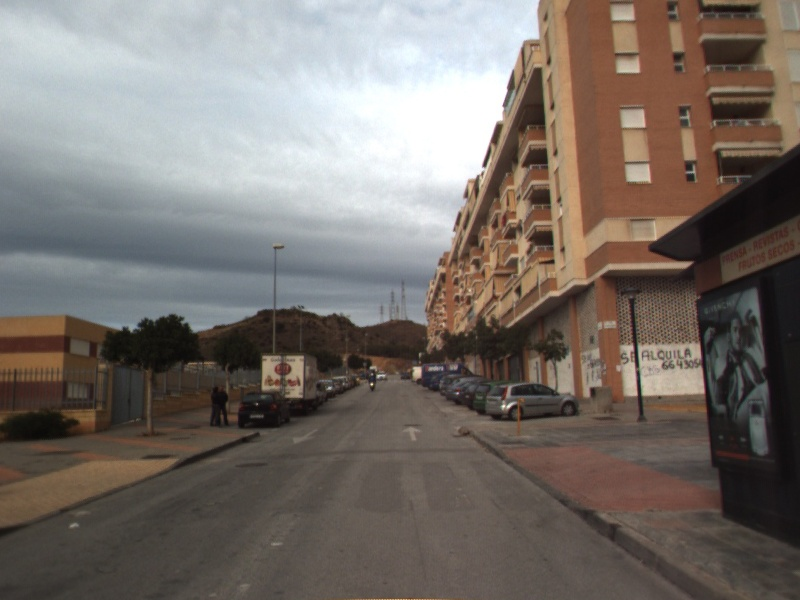STRAIGHT: (400, 424, 425, 443)
